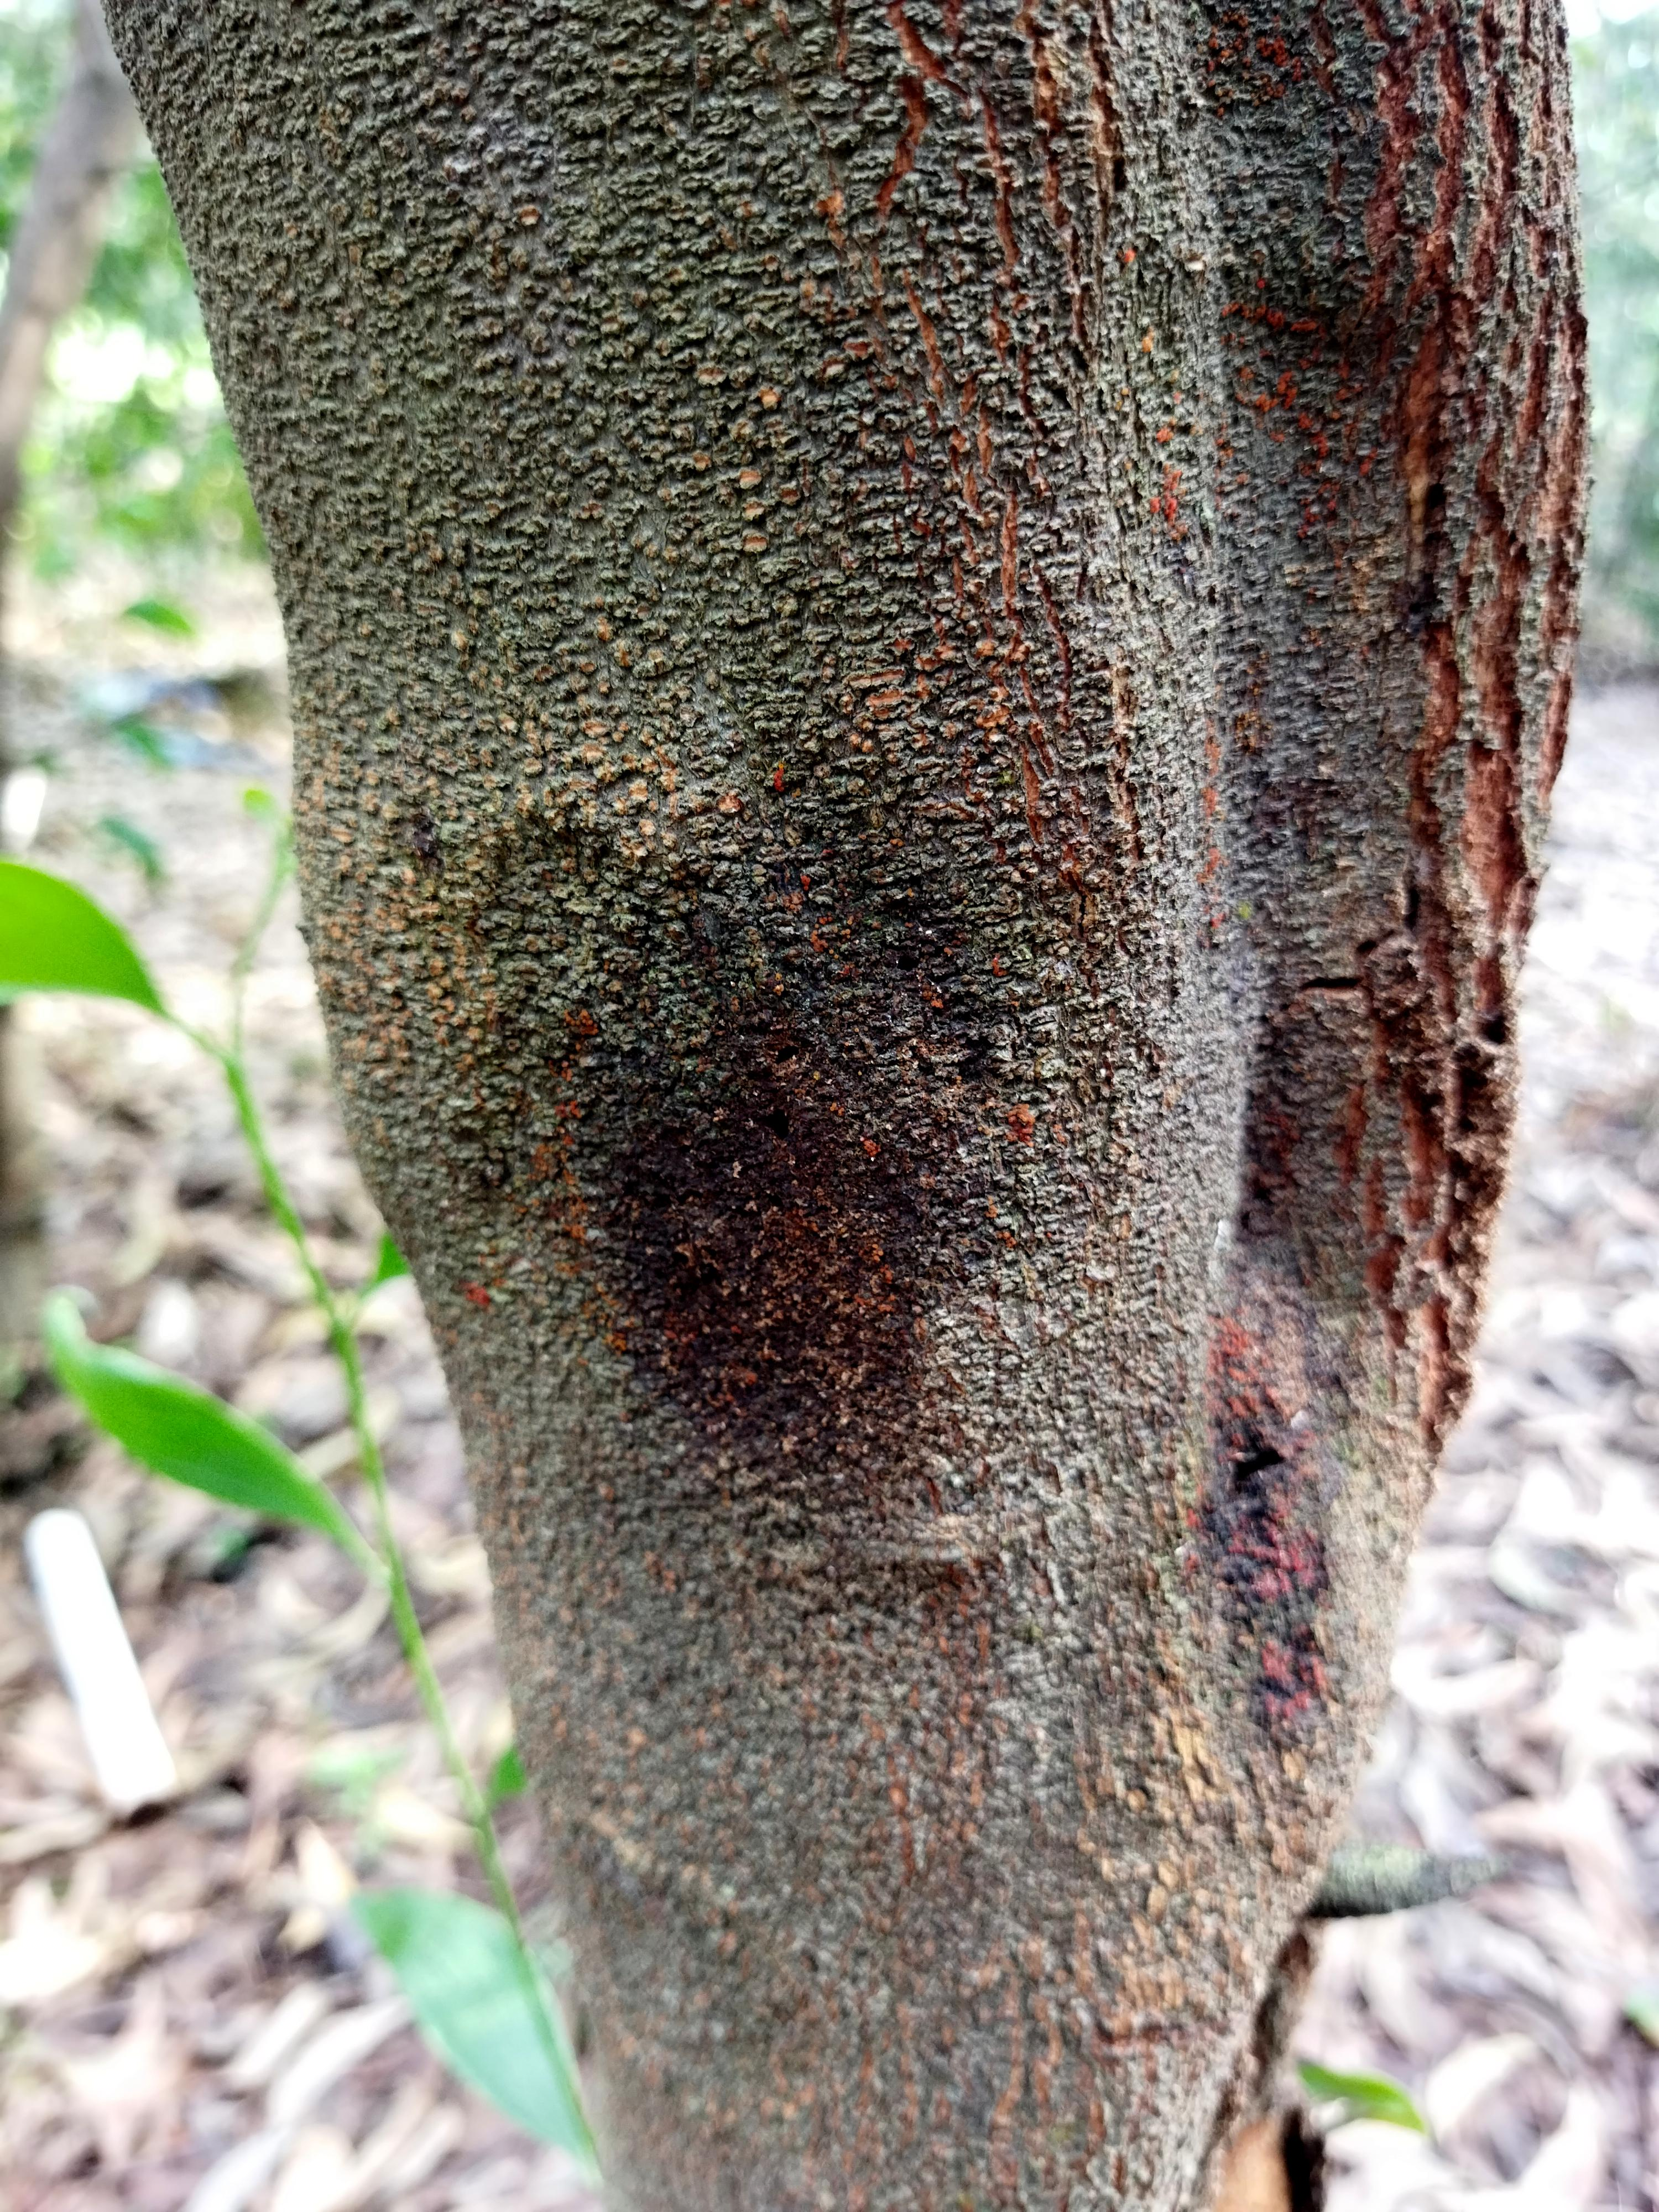Stem Borer: (1129, 1372, 1420, 1717), (687, 1047, 951, 1310)
Stem Deformation: (1361, 17, 1610, 1353)
